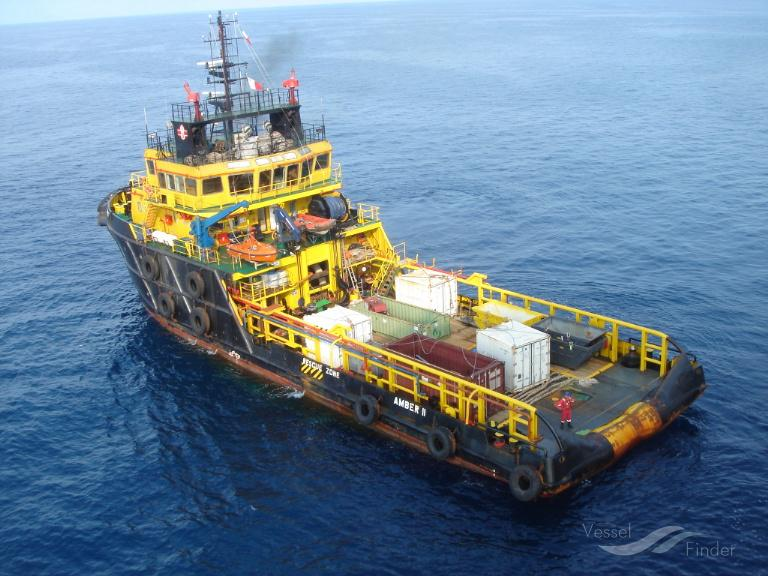OCR: (289, 349, 344, 385), (385, 391, 429, 420)
